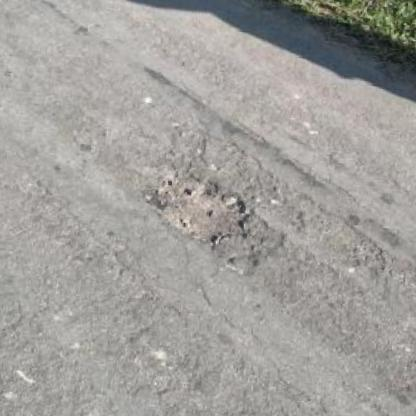pothole: (149, 169, 255, 250)
